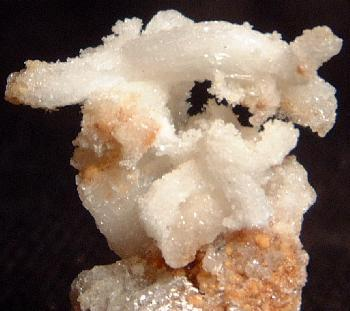gypsum: (5, 11, 343, 311), (5, 11, 343, 310)
